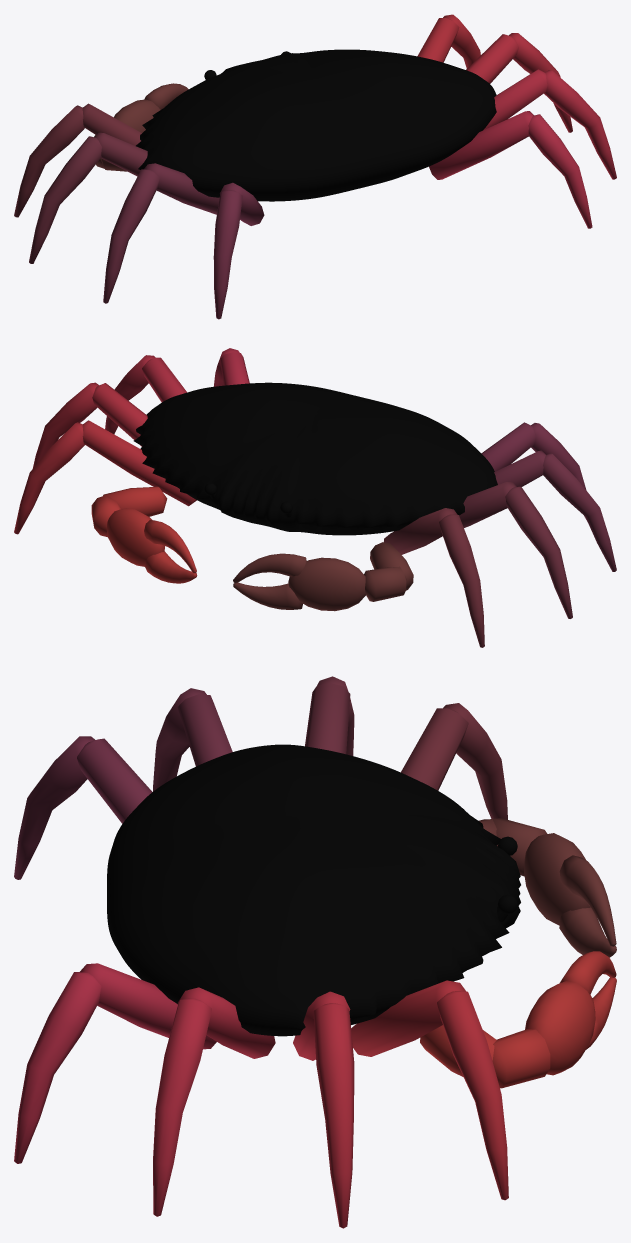
The model's file is rock_crab.glb.
The picture shows the model from 3 angles, top to bottom: view 1: azimuth 30°, elevation 25°; view 2: azimuth 150°, elevation 25°; view 3: azimuth 270°, elevation 25°; orthographic projection. The views are drawn at different scales.
Parts seen in each view (by area): view 1: rock_crab; view 2: rock_crab; view 3: rock_crab.
Boxes of the visible parts, x1,y1,x2,y2 form: rock_crab: (14,14,616,319); rock_crab: (14,348,616,647); rock_crab: (14,676,616,1228).
Size of the model in its own units: 0.2551 by 0.0593 by 0.156.
